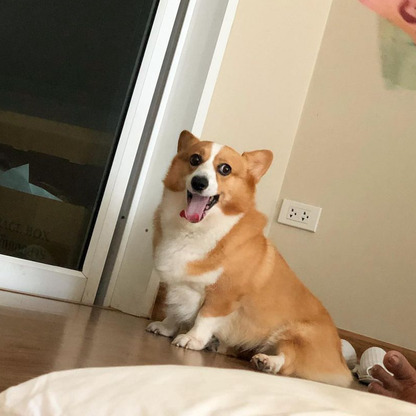Corgi: (160, 124, 369, 393)
